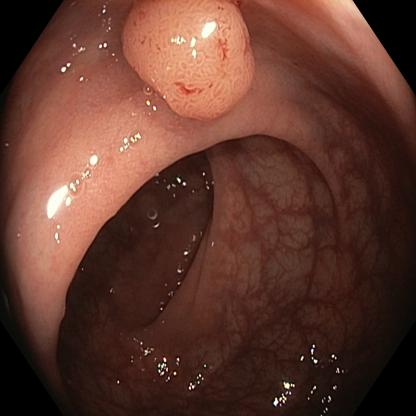Polyps: (116, 0, 271, 123)
